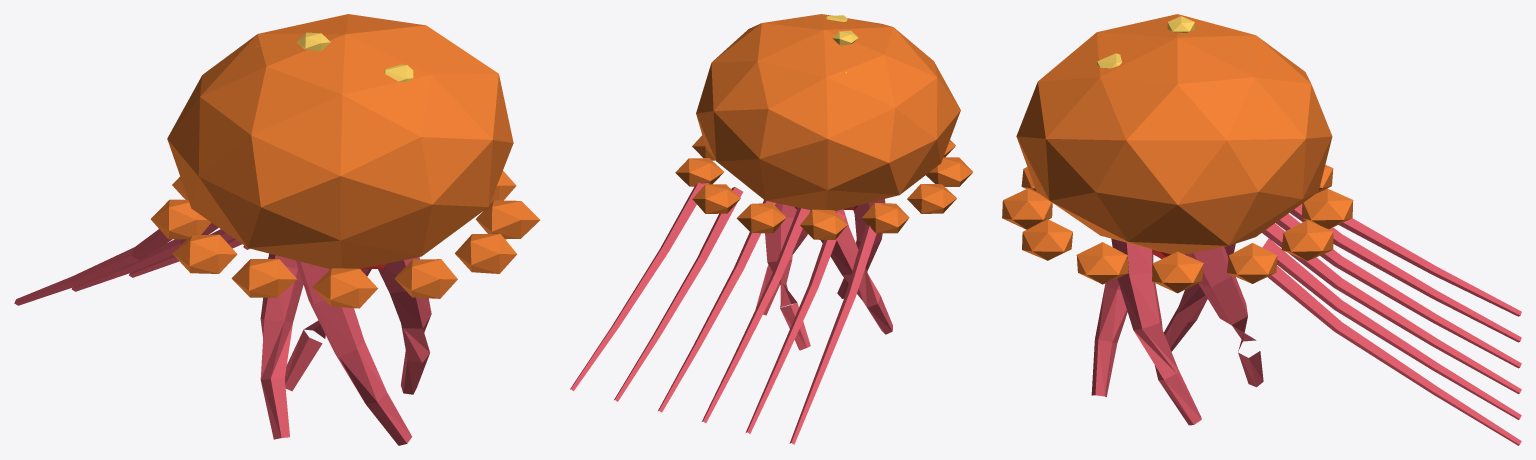
Rendered from monster_sua_lua.glb.
The picture shows the model from 3 angles, left to right: view 1: azimuth 30°, elevation 25°; view 2: azimuth 150°, elevation 25°; view 3: azimuth 270°, elevation 25°; orthographic projection. The views are drawn at different scales.
Visible parts, largest first — view 1: monster_sua_lua; view 2: monster_sua_lua; view 3: monster_sua_lua.
Part boxes in pixels (x1=…): monster_sua_lua: x1=14, y1=14, x2=539, y2=445; monster_sua_lua: x1=570, y1=14, x2=972, y2=444; monster_sua_lua: x1=1002, y1=14, x2=1521, y2=445.
Size of the model in its own units: 6.55 by 7.4 by 9.71.
